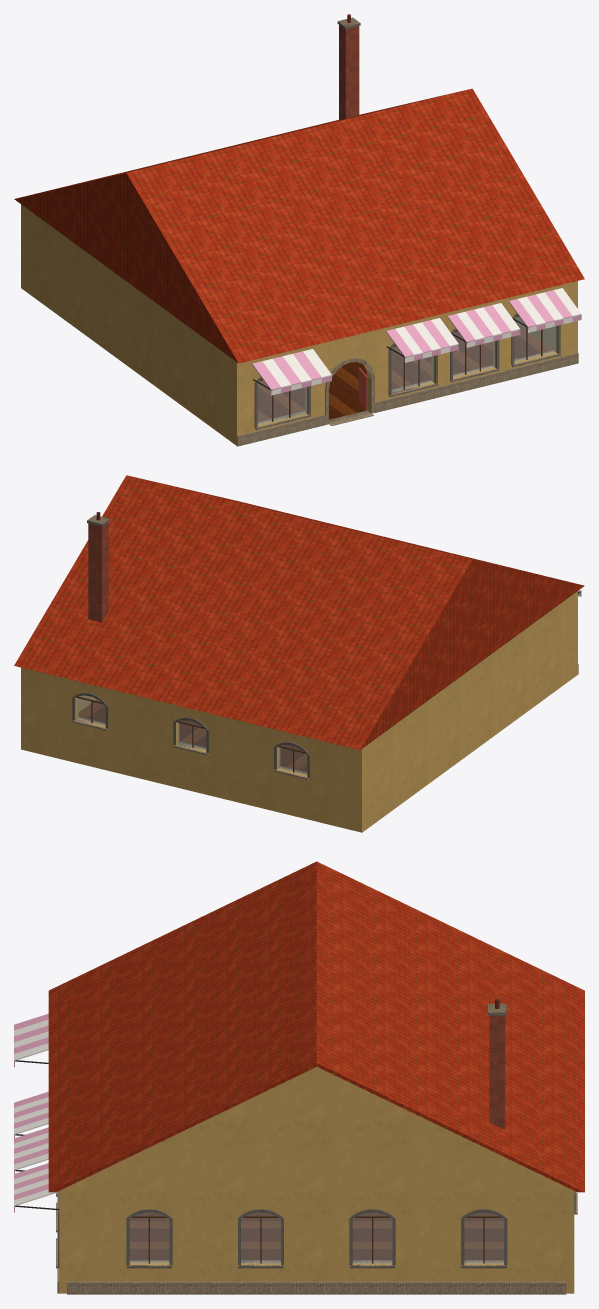
Rendered from shop_bakery.gltf.
3 views of the same model, one above another, from view 1: azimuth 30°, elevation 25°; view 2: azimuth 150°, elevation 25°; view 3: azimuth 270°, elevation 25° (orthographic). The views are drawn at different scales.
Visible parts, largest first — view 1: shop_bakery; view 2: shop_bakery; view 3: shop_bakery.
Boxes of the visible parts, x1=… form: shop_bakery: x1=14, y1=14, x2=584, y2=446; shop_bakery: x1=14, y1=475, x2=584, y2=832; shop_bakery: x1=14, y1=861, x2=584, y2=1294.
Size of what is drawn, in the model's own units: 17.97 by 11.12 by 21.5.
Materials: 9 (6 with a texture image).
